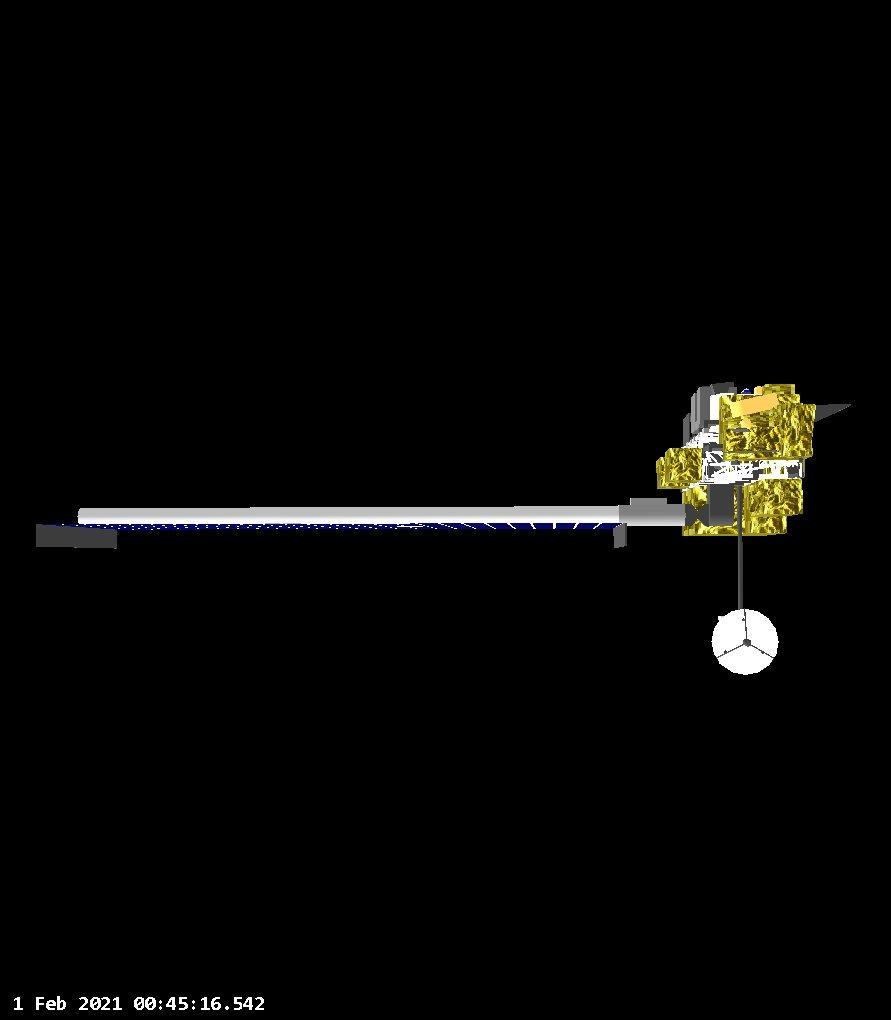antenna: (695, 601, 792, 683)
body: (652, 373, 822, 545)
solar: (30, 473, 692, 578), (804, 394, 853, 417)
